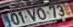0: (9, 12, 20, 26)
1: (17, 10, 25, 24)
3: (55, 4, 65, 16)
7: (47, 4, 56, 19)
O: (35, 7, 47, 21)
V: (24, 7, 36, 22)
